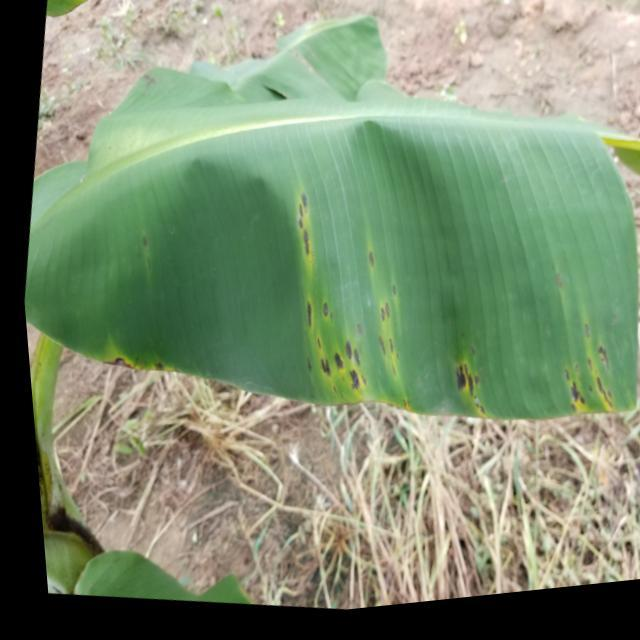Early_rust: (248, 132, 640, 433), (75, 310, 194, 413)
